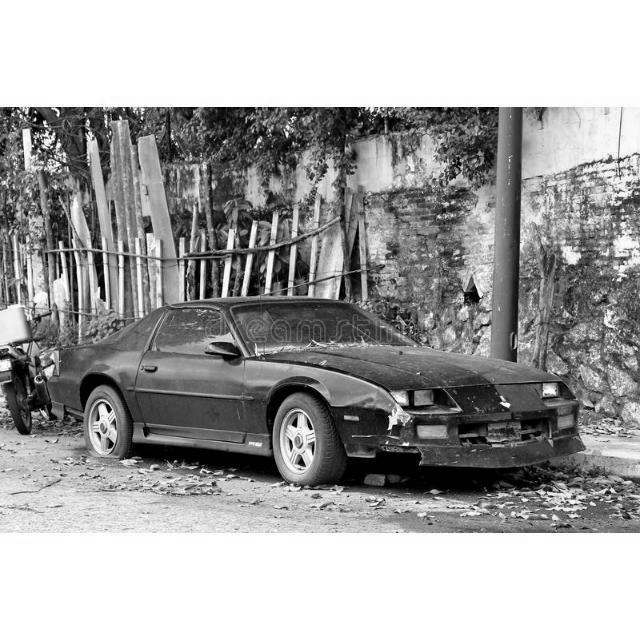front-bumper-dent: (390, 391, 585, 466)
